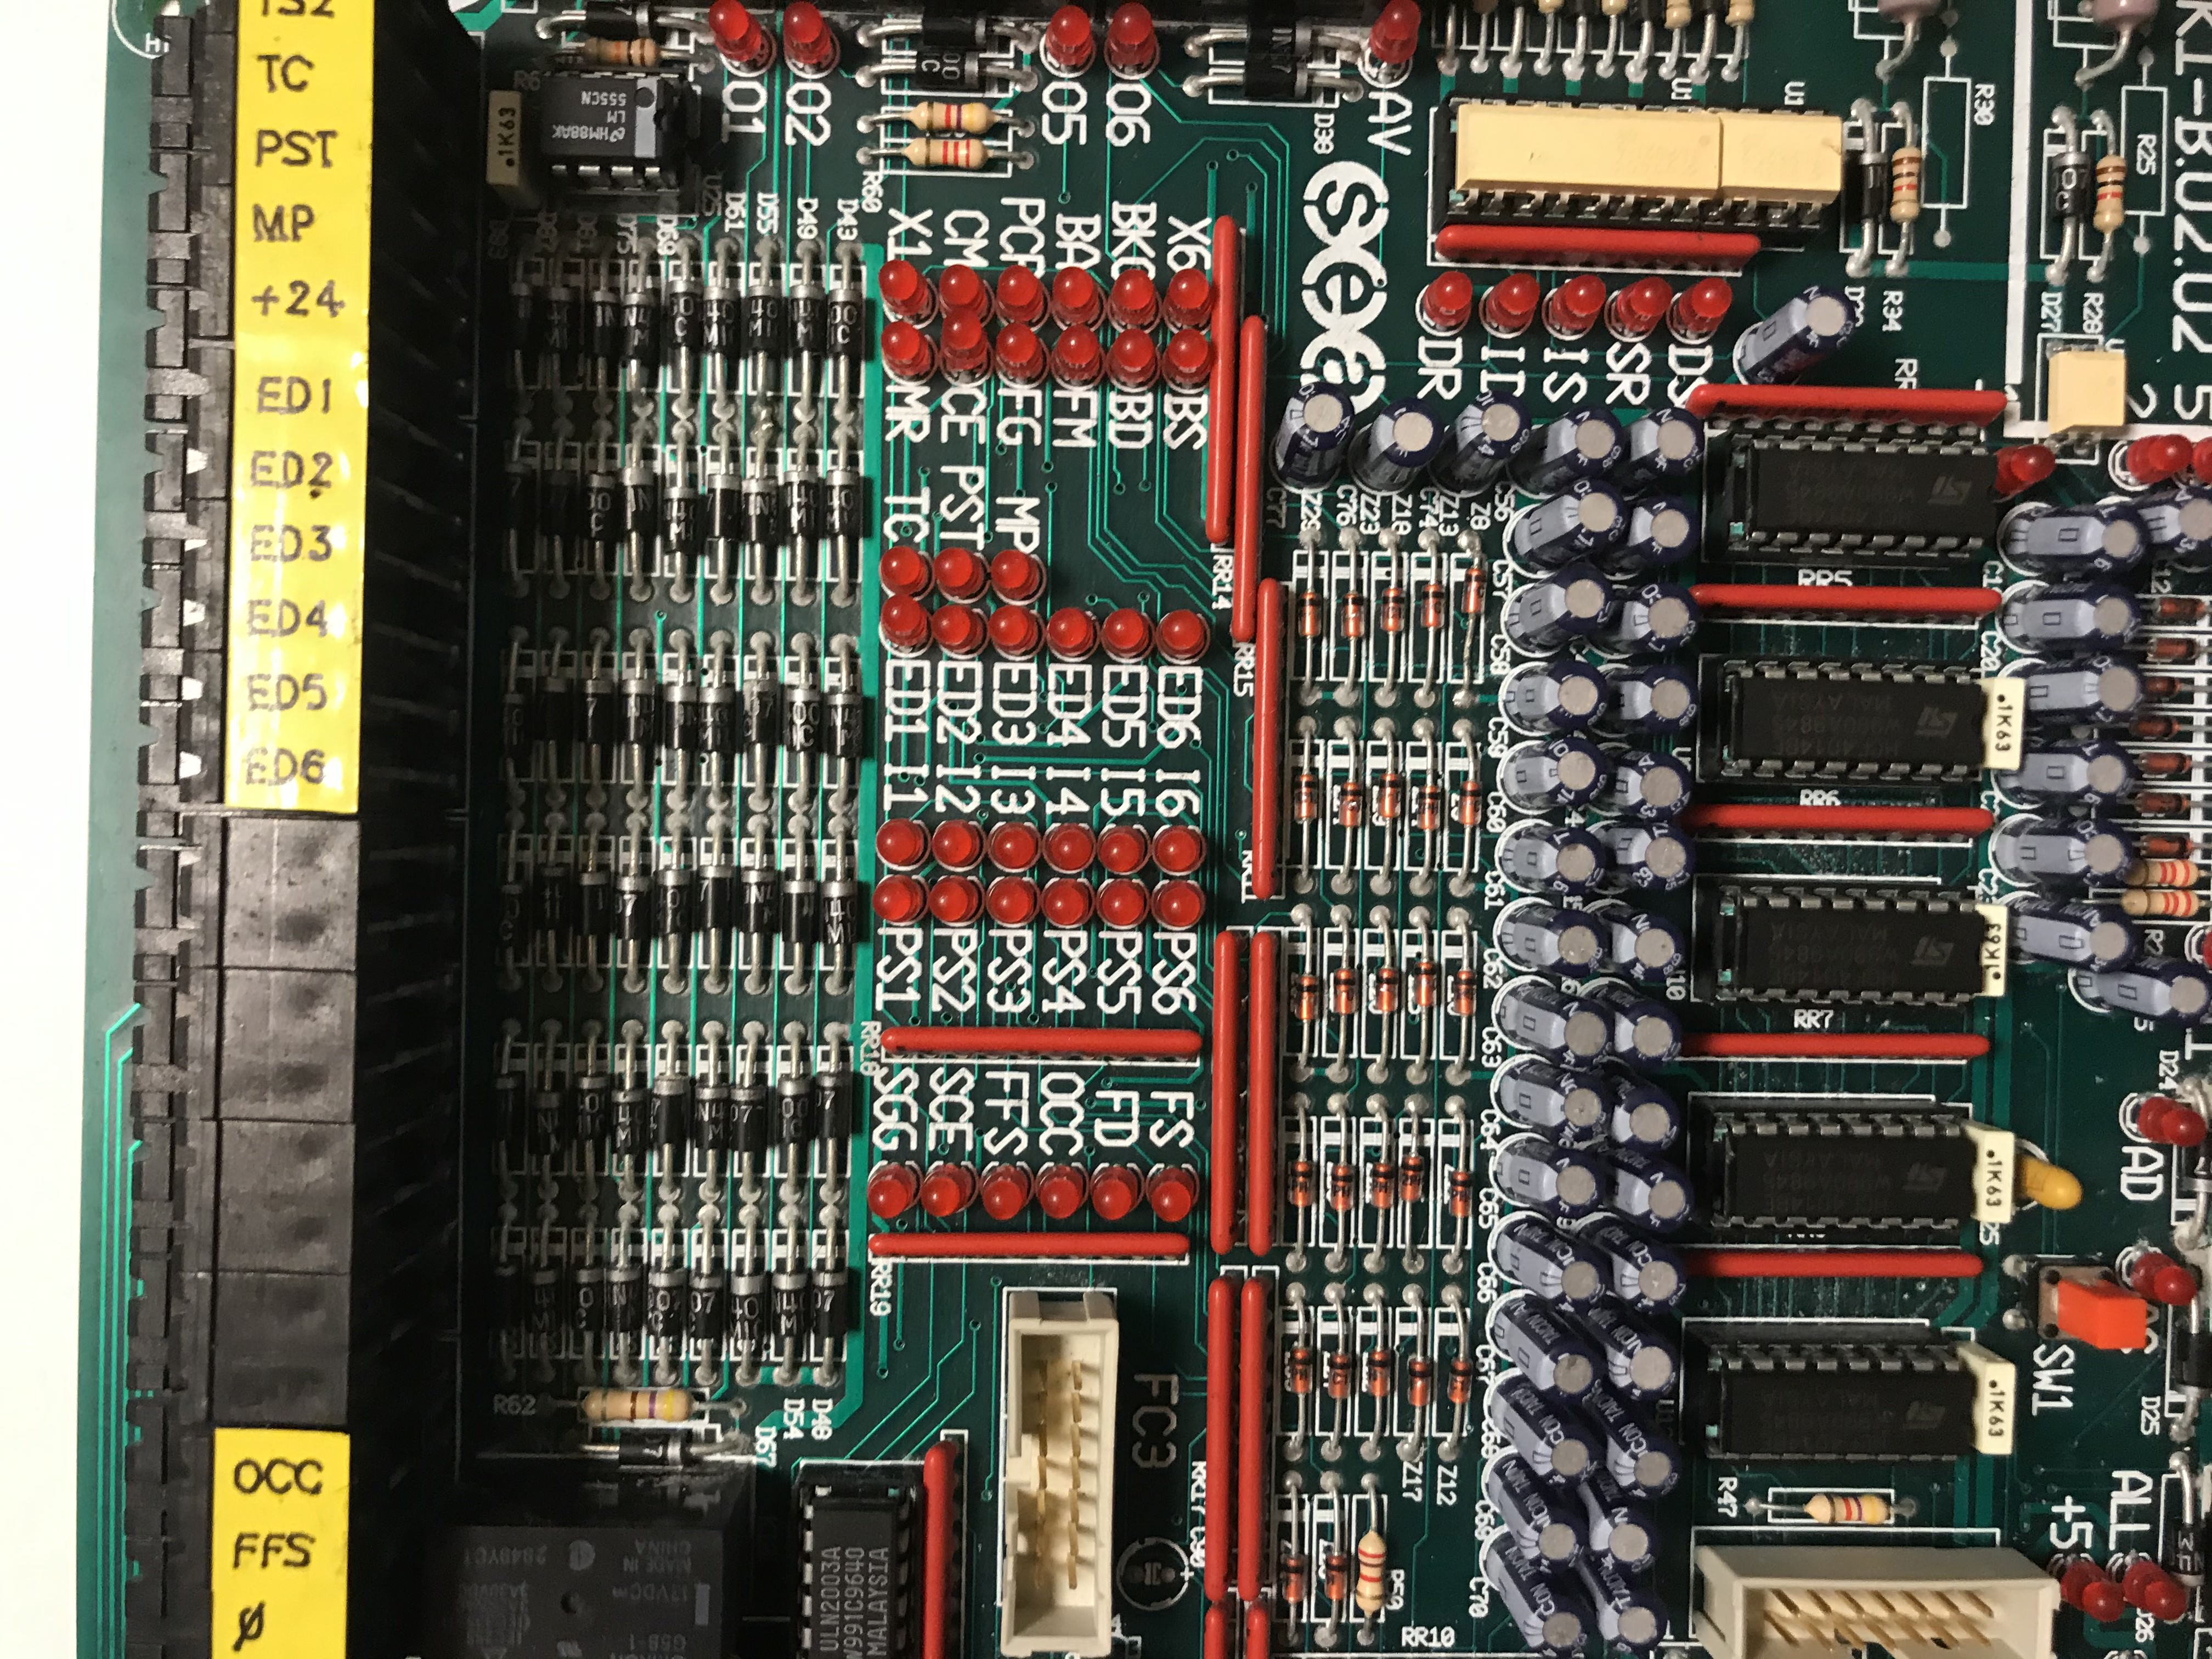Capacitor: (1480, 1535, 1594, 1659), (1491, 1373, 1609, 1490), (1989, 890, 2146, 978), (1491, 1295, 1609, 1410), (2069, 941, 2212, 1033), (1507, 474, 1632, 579), (1737, 282, 1860, 387), (1486, 1455, 1588, 1577), (1991, 725, 2135, 810), (1493, 1216, 1615, 1314), (2001, 502, 2155, 579), (1510, 403, 1630, 498), (1498, 979, 1616, 1075), (1576, 1222, 1695, 1317), (1571, 1549, 1674, 1659), (1576, 1143, 1698, 1236), (2000, 579, 2144, 655), (1991, 814, 2134, 890), (1435, 389, 1534, 498), (1568, 1469, 1665, 1581), (2003, 655, 2146, 728), (1590, 1396, 1686, 1504), (1505, 563, 1618, 653), (1595, 410, 1709, 498), (1500, 1060, 1616, 1145), (1270, 382, 1360, 490), (1580, 1065, 1684, 1157), (1578, 983, 1686, 1072), (1493, 1133, 1608, 1215), (1352, 394, 1444, 495), (1587, 579, 1702, 659), (1500, 899, 1611, 981), (1580, 744, 1698, 821), (1583, 1310, 1683, 1401), (1588, 495, 1698, 577), (1581, 662, 1703, 735), (1580, 904, 1688, 986), (1498, 821, 1609, 899), (2104, 484, 2212, 565), (1501, 735, 1611, 812), (1587, 824, 1698, 897), (1505, 657, 1609, 730)
Diode: (2041, 143, 2097, 232), (2170, 1497, 2209, 1612), (514, 1258, 564, 1340), (646, 1256, 690, 1345), (650, 1065, 690, 1161), (688, 1260, 732, 1347), (900, 51, 998, 89), (812, 1260, 855, 1345), (575, 671, 620, 753), (1223, 64, 1324, 101), (604, 1255, 648, 1338), (786, 282, 826, 373), (528, 856, 573, 936), (563, 1256, 606, 1338), (1228, 21, 1329, 56), (742, 282, 784, 366), (531, 673, 575, 753), (730, 1073, 770, 1161), (482, 1253, 523, 1340), (768, 1263, 812, 1344), (610, 1429, 700, 1467), (702, 281, 744, 362), (784, 678, 826, 760), (738, 676, 782, 755), (573, 863, 617, 941), (812, 1068, 853, 1148), (728, 1262, 768, 1345), (653, 864, 697, 941), (737, 864, 782, 938), (2174, 1314, 2210, 1405), (662, 277, 702, 359), (826, 687, 869, 762), (578, 469, 618, 549), (486, 875, 526, 955), (482, 1070, 523, 1150), (577, 3, 664, 40), (491, 680, 528, 767), (2175, 1115, 2212, 1202), (658, 481, 698, 559), (613, 866, 653, 945), (779, 871, 819, 950), (1853, 146, 1892, 228), (817, 875, 859, 950), (618, 288, 658, 364), (500, 281, 540, 357), (618, 464, 658, 540), (904, 16, 1001, 47), (695, 861, 737, 934), (742, 472, 780, 551), (571, 1068, 610, 1147), (780, 467, 820, 542), (610, 1079, 646, 1161), (698, 681, 738, 755), (662, 681, 698, 762), (620, 671, 657, 751), (526, 1080, 563, 1161), (1317, 1534, 1353, 1614), (827, 281, 862, 364), (704, 472, 742, 547), (496, 460, 533, 538), (775, 1070, 812, 1148), (543, 282, 578, 362), (538, 469, 578, 538), (695, 1080, 730, 1161), (1362, 1150, 1399, 1220), (585, 288, 618, 364), (826, 467, 860, 538), (1327, 1150, 1360, 1225), (1334, 584, 1369, 652), (1364, 1342, 1399, 1408), (1397, 1148, 1433, 1211), (1277, 1544, 1310, 1612), (1324, 1340, 1357, 1408), (1444, 1161, 1479, 1225), (1442, 1349, 1479, 1410), (1458, 565, 1493, 627), (2127, 830, 2200, 859), (1287, 1337, 1318, 1405), (2113, 714, 2193, 741), (1404, 1349, 1433, 1419), (2127, 789, 2200, 817), (1414, 777, 1447, 838), (2130, 749, 2195, 779), (1331, 960, 1360, 1021), (1372, 962, 1404, 1019), (1456, 775, 1486, 835), (1296, 586, 1324, 648), (2142, 594, 2209, 620), (2132, 638, 2207, 660), (1378, 769, 1404, 833), (1420, 582, 1453, 633), (1287, 1155, 1317, 1211), (1376, 584, 1406, 640), (1339, 774, 1366, 836), (1294, 769, 1320, 831), (2128, 673, 2193, 697), (1292, 969, 1320, 1025), (1411, 957, 1440, 1009), (1451, 964, 1477, 1023)
LED: (2114, 1551, 2188, 1628), (2057, 1551, 2132, 1624), (1364, 0, 1425, 85), (2113, 425, 2195, 488), (2123, 1243, 2198, 1310), (2130, 1094, 2210, 1155), (777, 2, 841, 73), (702, 0, 770, 66), (1991, 439, 2057, 500), (1545, 274, 1609, 335), (1042, 2, 1097, 71), (876, 315, 935, 380), (935, 308, 991, 376), (1106, 3, 1160, 73), (1616, 275, 1676, 338), (930, 542, 989, 603), (974, 1162, 1031, 1223), (1418, 270, 1475, 331), (1676, 277, 1731, 340), (1050, 263, 1104, 328), (1085, 1166, 1143, 1225), (1487, 272, 1541, 335), (878, 256, 930, 321), (1050, 322, 1103, 387), (1033, 1164, 1090, 1222), (937, 263, 993, 322), (1108, 268, 1162, 329), (993, 321, 1047, 382), (918, 1162, 975, 1218), (1163, 328, 1216, 389), (1106, 328, 1158, 389), (996, 265, 1047, 328), (1163, 267, 1214, 329), (876, 542, 932, 598), (1155, 606, 1211, 662), (930, 601, 988, 655), (1144, 1166, 1198, 1223), (988, 545, 1043, 599), (1099, 605, 1153, 660), (878, 592, 930, 650), (1038, 875, 1092, 929), (1045, 603, 1097, 659), (988, 605, 1042, 657), (930, 873, 984, 925), (864, 1164, 914, 1220), (986, 875, 1038, 927), (932, 821, 986, 871), (1151, 826, 1207, 875), (1096, 826, 1151, 875), (1043, 824, 1096, 875), (873, 873, 925, 924), (1096, 878, 1150, 927), (988, 824, 1043, 870), (1153, 882, 1205, 929), (876, 819, 923, 866)
Resistor: (1778, 1486, 1898, 1532), (580, 1387, 707, 1424), (897, 98, 1005, 134), (1353, 1518, 1390, 1622), (2092, 143, 2127, 247), (1892, 145, 1930, 234), (894, 136, 995, 169), (570, 37, 667, 68), (2107, 856, 2205, 885), (2111, 885, 2209, 915)
